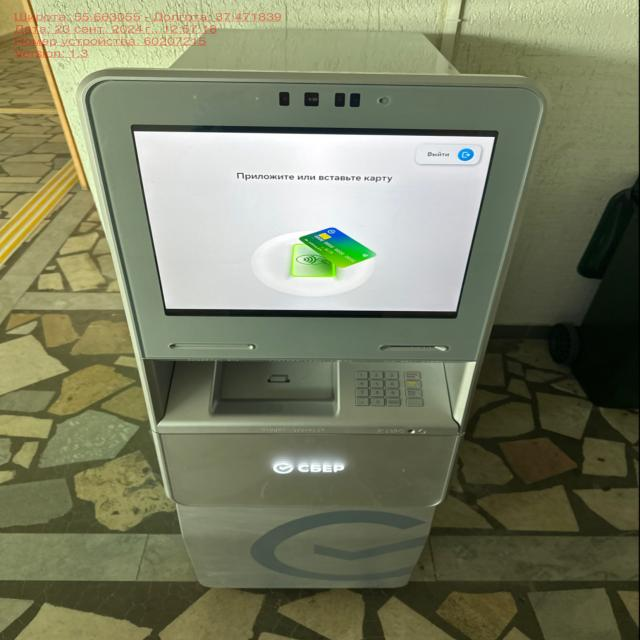bank: (79, 20, 550, 597)
